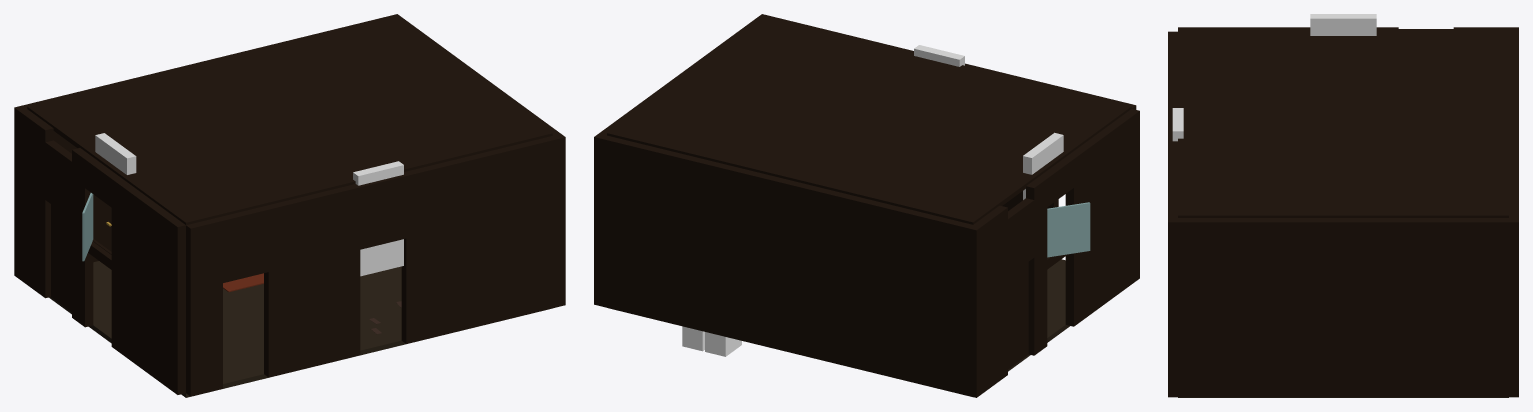
The picture shows the model from 3 angles, left to right: view 1: azimuth 30°, elevation 25°; view 2: azimuth 150°, elevation 25°; view 3: azimuth 270°, elevation 25°; orthographic projection. The views are drawn at different scales.
Visible parts, largest first — view 1: Z5_Ceiling, Z5_Wall_S_R, Z5_Wall_S_M, Z5_Wall_W_S, Z5_Floor, Z5_Wall_S_L, Z5_Wall_W_N, Z5_Wall_S_LintelZ4, Z5_Wall_S_LintelMain, Z5_Wall_W_Mid, Z5_Wall_E, Z5_Wall_W_WinL (+8 smaller); view 2: Z5_Wall_N, Z5_Ceiling, Z5_Wall_W_S, Z5_Wall_W_N, Z5_Wall_W_Mid, Z5_Wall_W_WinL, Z5_Window_Glass, Z5_SecDoor_Leaf, Z5_Wall_W_DoorLintel, Z5_Floor, Z5_Wall_E, Z5_Window_W_MARK (+5 smaller); view 3: Z5_Wall_E, Z5_Ceiling, Z5_Wall_N, Z5_Window_W_MARK, Z5_Wall_S_R, Z5_Wall_S_M, Z5_MainDoor_MARK, Z5_Floor.
Part boxes in pixels (x1,y1,x2,y2): Z5_Ceiling: (27, 17, 552, 224); Z5_Wall_S_R: (401, 136, 557, 343); Z5_Wall_S_M: (264, 184, 360, 377); Z5_Wall_W_S: (124, 186, 185, 394); Z5_Floor: (49, 261, 549, 397); Z5_Wall_S_L: (186, 217, 222, 396); Z5_Wall_W_N: (19, 109, 53, 298); Z5_Wall_S_LintelZ4: (218, 206, 268, 282); Z5_Wall_S_LintelMain: (358, 174, 406, 249); Z5_Wall_W_Mid: (72, 148, 93, 327); Z5_Wall_E: (390, 14, 565, 306); Z5_Wall_W_WinL: (111, 177, 132, 355); Z5_Wall_N: (594, 135, 981, 397); Z5_Ceiling: (607, 17, 1131, 224); Z5_Wall_W_S: (1079, 109, 1139, 316); Z5_Wall_W_N: (973, 205, 1007, 394); Z5_Wall_W_Mid: (1026, 176, 1047, 355); Z5_Wall_W_WinL: (1065, 147, 1086, 326); Z5_Window_Glass: (1047, 202, 1090, 257); Z5_SecDoor_Leaf: (1008, 262, 1028, 369); Z5_Wall_W_DoorLintel: (1008, 198, 1034, 276); Z5_Floor: (609, 259, 1069, 396); Z5_Wall_E: (594, 14, 769, 141); Z5_Window_W_MARK: (1023, 132, 1063, 199); Z5_Wall_E: (1168, 218, 1518, 397); Z5_Ceiling: (1178, 29, 1508, 217); Z5_Wall_N: (1509, 27, 1518, 397); Z5_Window_W_MARK: (1310, 14, 1376, 35); Z5_Wall_S_R: (1168, 141, 1177, 217); Z5_Wall_S_M: (1168, 71, 1177, 117); Z5_MainDoor_MARK: (1172, 108, 1183, 141); Z5_Floor: (1178, 397, 1508, 397).
Size of the model in its own units: 8.86 by 4.58 by 6.36.
